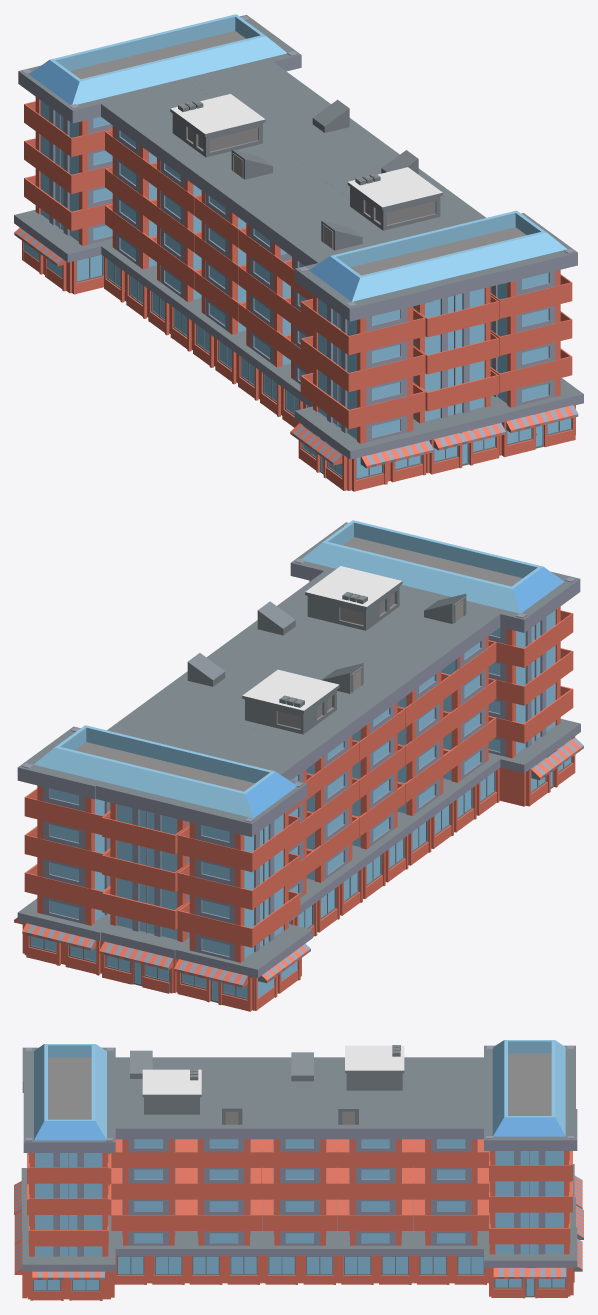
The model's file is putong_dajianzhu01.fbx.
The picture shows the model from 3 angles, top to bottom: view 1: azimuth 30°, elevation 25°; view 2: azimuth 150°, elevation 25°; view 3: azimuth 270°, elevation 25°; orthographic projection. The views are drawn at different scales.
Parts seen in each view (by area): view 1: putong_dajianzhu01080, putong_dajianzhu01082, putong_dajianzhu01015, putong_dajianzhu01033, putong_dajianzhu01096, putong_dajianzhu01051, putong_dajianzhu01057, putong_dajianzhu01089, putong_dajianzhu01013, putong_dajianzhu01081, putong_dajianzhu01075, putong_dajianzhu01021 (+43 smaller); view 2: putong_dajianzhu01015, putong_dajianzhu01033, putong_dajianzhu01013, putong_dajianzhu01009, putong_dajianzhu01082, putong_dajianzhu01003, putong_dajianzhu01057, putong_dajianzhu01069, putong_dajianzhu01080, putong_dajianzhu01075, putong_dajianzhu01014, putong_dajianzhu01096 (+40 smaller); view 3: putong_dajianzhu01003, putong_dajianzhu01095, putong_dajianzhu01096, putong_dajianzhu01002, putong_dajianzhu01027, putong_dajianzhu01045, putong_dajianzhu01039, putong_dajianzhu01063, putong_dajianzhu01038, putong_dajianzhu01062, putong_dajianzhu01033, putong_dajianzhu01044 (+37 smaller).
Part boxes in pixels (box(x1,y1,x2,y2)): putong_dajianzhu01080: box(290, 406, 433, 491); putong_dajianzhu01082: box(294, 241, 433, 321); putong_dajianzhu01015: box(18, 45, 144, 154); putong_dajianzhu01033: box(143, 94, 275, 196); putong_dajianzhu01096: box(456, 210, 577, 284); putong_dajianzhu01051: box(187, 145, 321, 228); putong_dajianzhu01057: box(232, 178, 357, 258); putong_dajianzhu01089: box(391, 225, 498, 300); putong_dajianzhu01013: box(14, 210, 112, 294); putong_dajianzhu01081: box(300, 373, 425, 443); putong_dajianzhu01075: box(347, 167, 442, 230); putong_dajianzhu01021: box(96, 78, 211, 163); putong_dajianzhu01015: box(173, 757, 307, 869); putong_dajianzhu01033: box(231, 669, 366, 774); putong_dajianzhu01013: box(174, 924, 312, 1011); putong_dajianzhu01009: box(95, 738, 215, 834); putong_dajianzhu01082: box(439, 551, 580, 632); putong_dajianzhu01003: box(17, 725, 138, 832); putong_dajianzhu01057: box(322, 624, 457, 707); putong_dajianzhu01069: box(375, 592, 504, 674); putong_dajianzhu01080: box(499, 719, 583, 806); putong_dajianzhu01075: box(305, 566, 402, 630); putong_dajianzhu01014: box(177, 891, 300, 962); putong_dajianzhu01096: box(290, 520, 414, 580); putong_dajianzhu01003: box(484, 1095, 577, 1165); putong_dajianzhu01095: box(14, 1232, 115, 1300); putong_dajianzhu01096: box(23, 1096, 115, 1152); putong_dajianzhu01002: box(484, 1227, 582, 1298); putong_dajianzhu01027: box(413, 1094, 492, 1168); putong_dajianzhu01045: box(261, 1094, 337, 1168); putong_dajianzhu01039: box(338, 1094, 413, 1168); putong_dajianzhu01063: box(186, 1094, 260, 1168); putong_dajianzhu01038: box(335, 1214, 416, 1284); putong_dajianzhu01062: box(183, 1215, 265, 1284); putong_dajianzhu01033: box(337, 1045, 412, 1093); putong_dajianzhu01044: box(259, 1231, 337, 1284).
Size of the model in its own units: 12.68 by 10.21 by 29.06.
